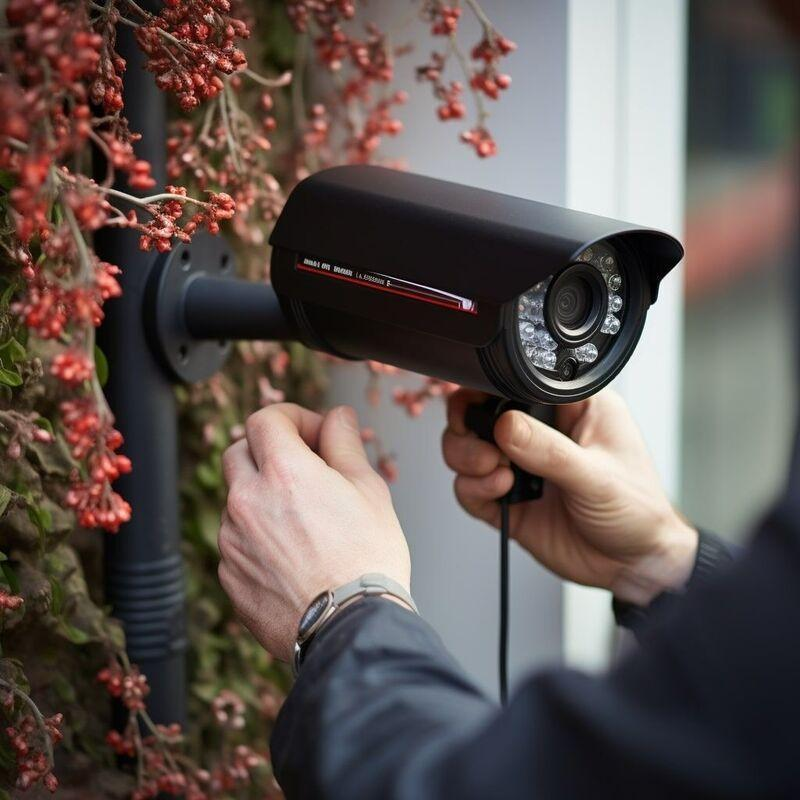bullet: (260, 145, 698, 411)
